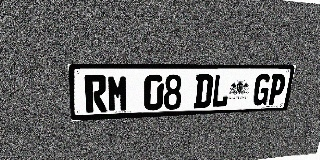0: (144, 74, 164, 110)
8: (163, 74, 183, 109)
D: (193, 74, 214, 108)
G: (252, 74, 272, 106)
L: (211, 74, 231, 107)
M: (107, 75, 128, 112)
P: (267, 74, 287, 105)
R: (84, 75, 107, 113)
